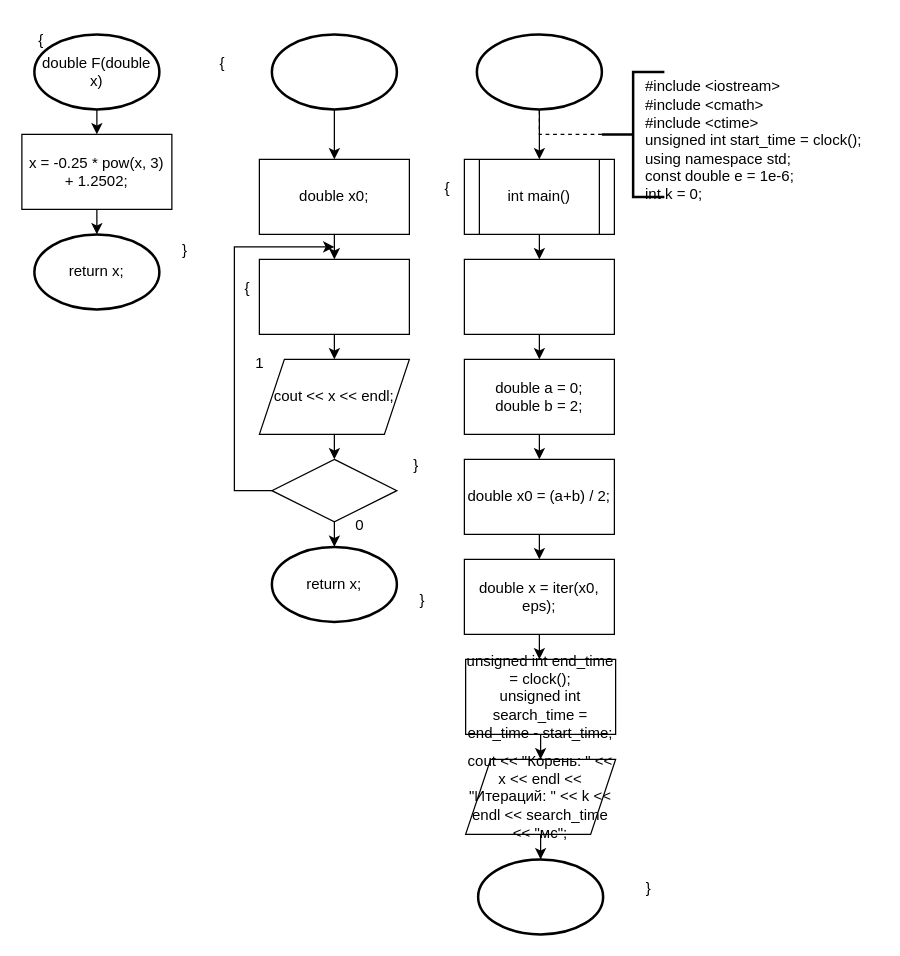
This 900x956 diagram has some shape labels left out. The shapes that lost their labels are listed below. From the top down, each one's centre as x and y in pixels, then its label:
(334,71): double iter(double x, double eps)
(538,71): начало
(333,296): x0 = x; x = F(x0); k++;
(538,296): setlocale(LC_ALL, "RU");
(334,490): while (abs(x0 - x) >= eps);
(540,896): return 0;
